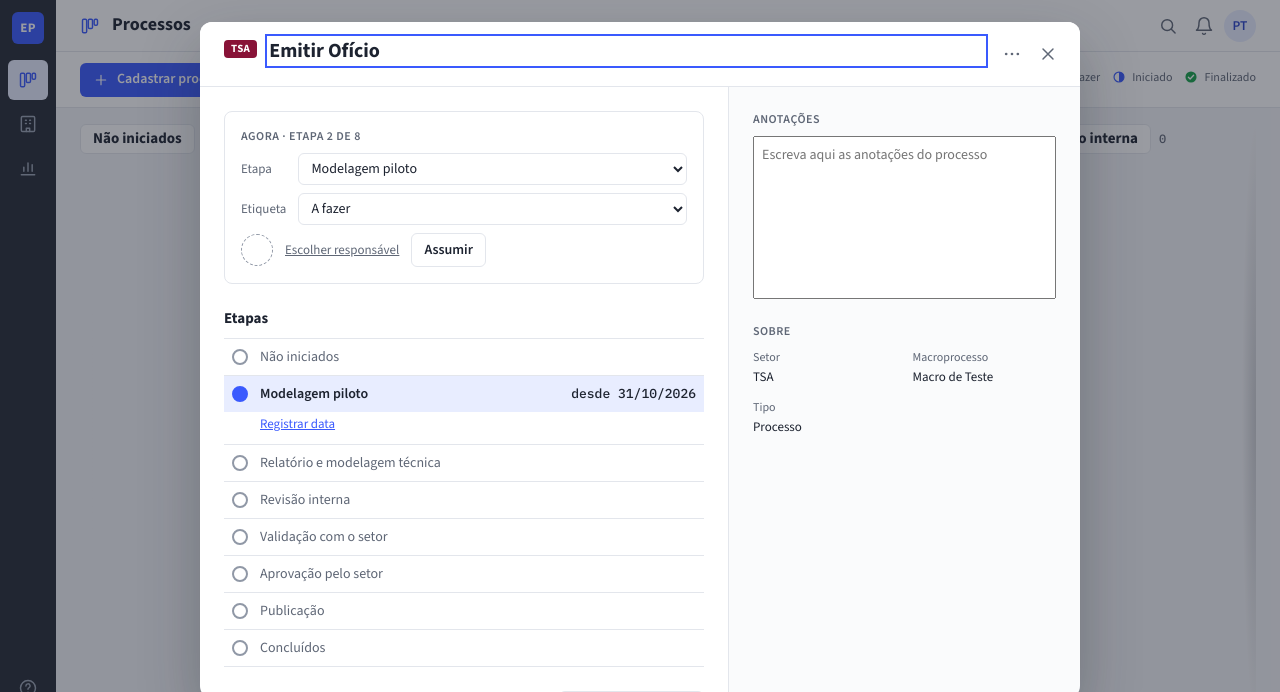
it: fechar em conflito também pergunta
The width and height of the screenshot is (1280, 692).
Type "Meu texto" into the text box labelled "Anotações" at (904, 218), box [753,136,1056,299]
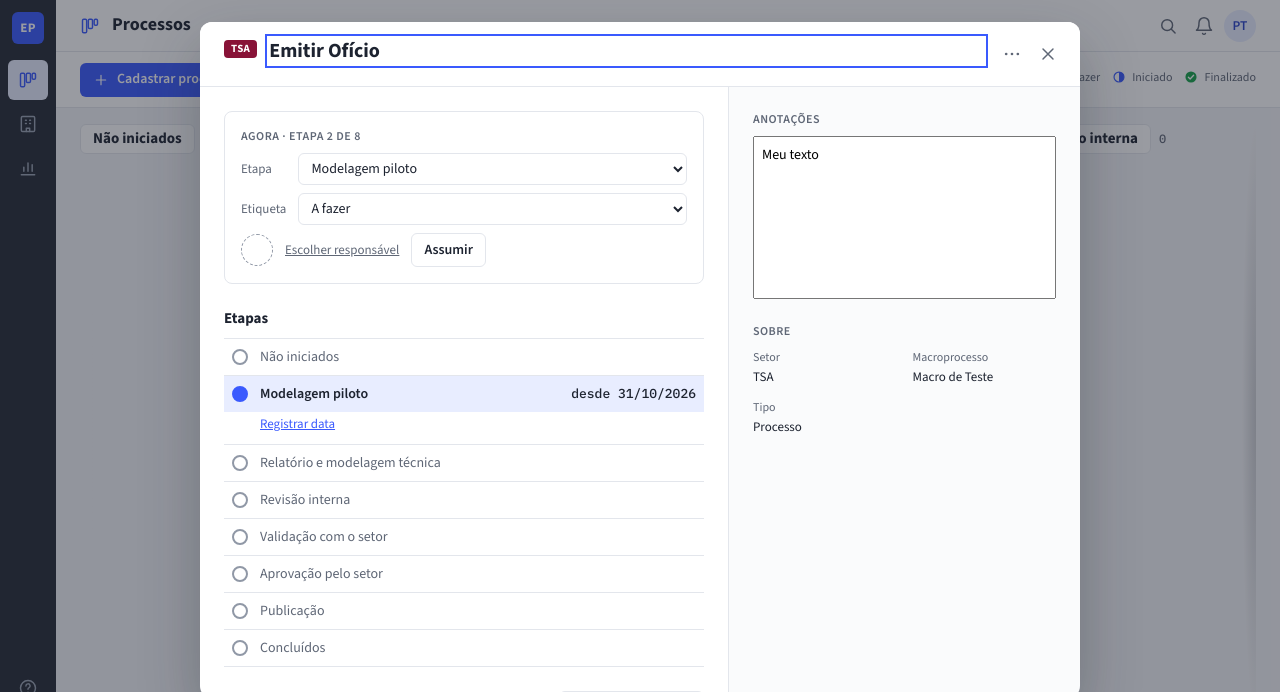
Click the button named "Fechar a janela" at (1048, 54), box [1032,38,1064,70]
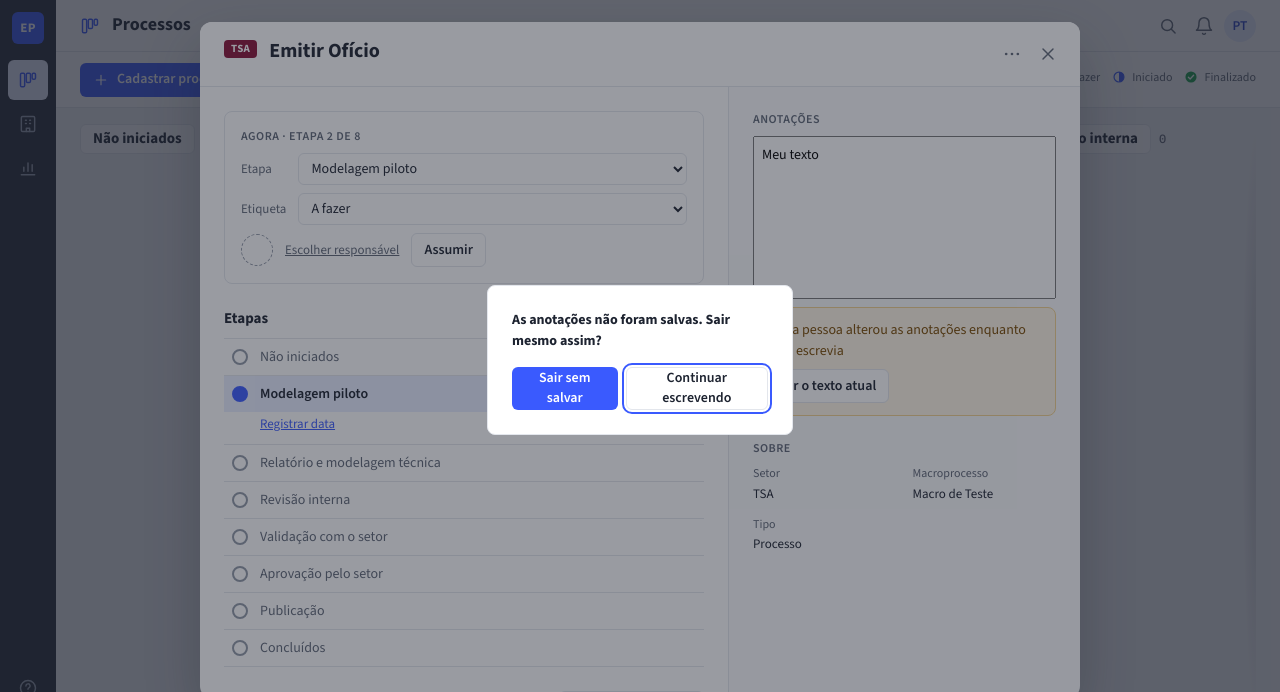
expect the dialog "As anotações não foram salvas. Sair mesmo assim?" is shown: met, box [487,285,793,435]
